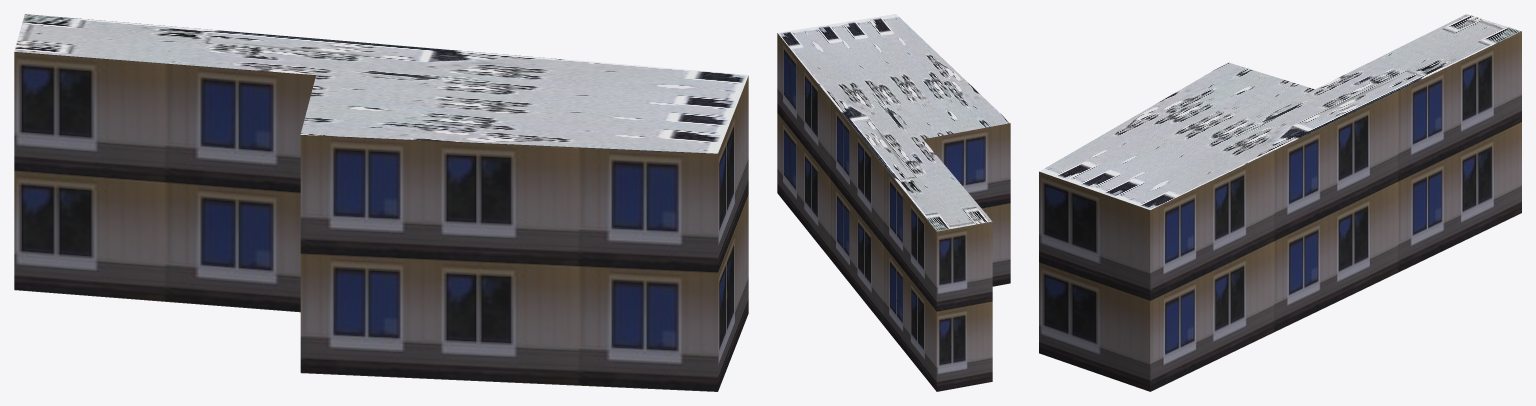
Rendered from ResTex__3262.fbx.
3 views of the same model, side by side, from view 1: azimuth 30°, elevation 25°; view 2: azimuth 150°, elevation 25°; view 3: azimuth 270°, elevation 25° (orthographic). The views are drawn at different scales.
Visible parts, largest first — view 1: CityEngineMaterial_5_m, CityEngineMaterial_8_m; view 2: CityEngineMaterial_5_m, CityEngineMaterial_8_m; view 3: CityEngineMaterial_5_m, CityEngineMaterial_8_m.
Part boxes in pixels (x1,y1,x2,y2): CityEngineMaterial_5_m: (14, 52, 748, 391); CityEngineMaterial_8_m: (14, 14, 748, 153); CityEngineMaterial_5_m: (777, 33, 1010, 391); CityEngineMaterial_8_m: (778, 14, 1010, 231); CityEngineMaterial_5_m: (1039, 31, 1521, 391); CityEngineMaterial_8_m: (1039, 14, 1521, 209).
Size of the model in its own units: 13.89 by 6 by 14.44.
Materials: 2 (2 with a texture image).
